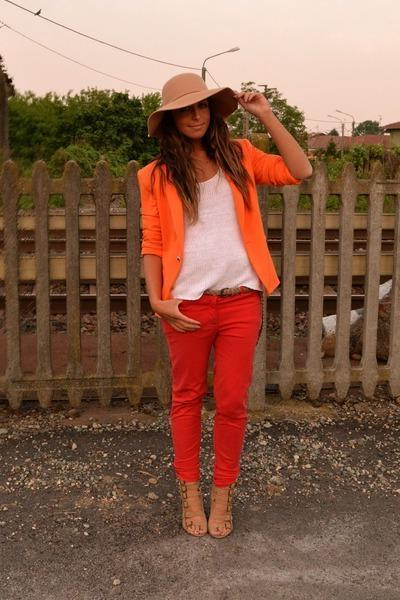jacket: (138, 138, 304, 303)
trousers: (162, 290, 269, 482)
vest: (165, 166, 262, 302)
